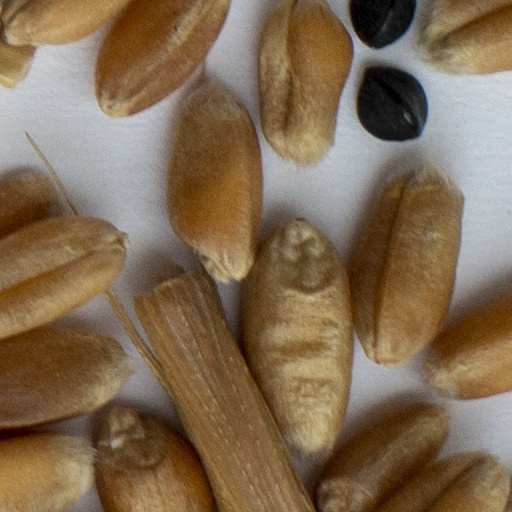Fallopia-Convolvulus-poly: (355, 61, 431, 144), (349, 0, 418, 53)
